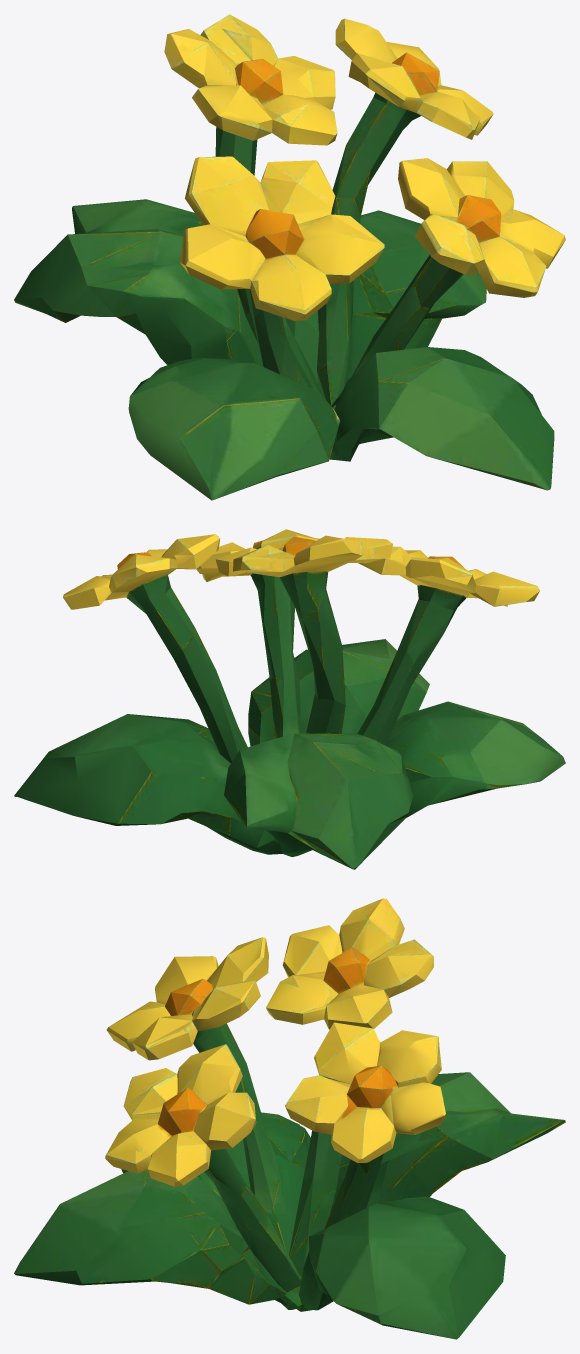
Rendered from nature-flower-yellow.glb.
3 renders of one model, top to bottom at view 1: azimuth 30°, elevation 25°; view 2: azimuth 150°, elevation 25°; view 3: azimuth 270°, elevation 25°, orthographic. The views are drawn at different scales.
Visible parts, largest first — view 1: nature-flower-yellow-fit; view 2: nature-flower-yellow-fit; view 3: nature-flower-yellow-fit.
Part boxes in pixels (bbox=[...]): nature-flower-yellow-fit: bbox=[14, 14, 565, 500]; nature-flower-yellow-fit: bbox=[14, 529, 565, 869]; nature-flower-yellow-fit: bbox=[14, 898, 565, 1339].
Size of the model in its own units: 0.6251 by 0.55 by 0.751.
1 material, 1 textured.
